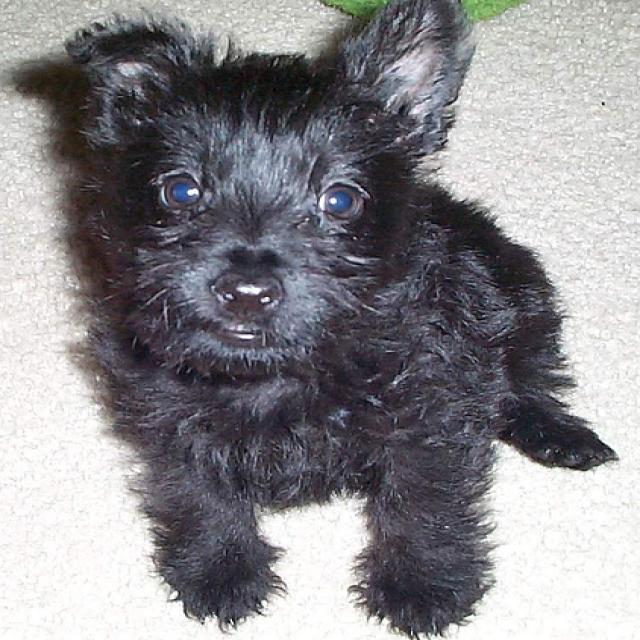dog-scottish_terrier: (65, 1, 616, 637)
